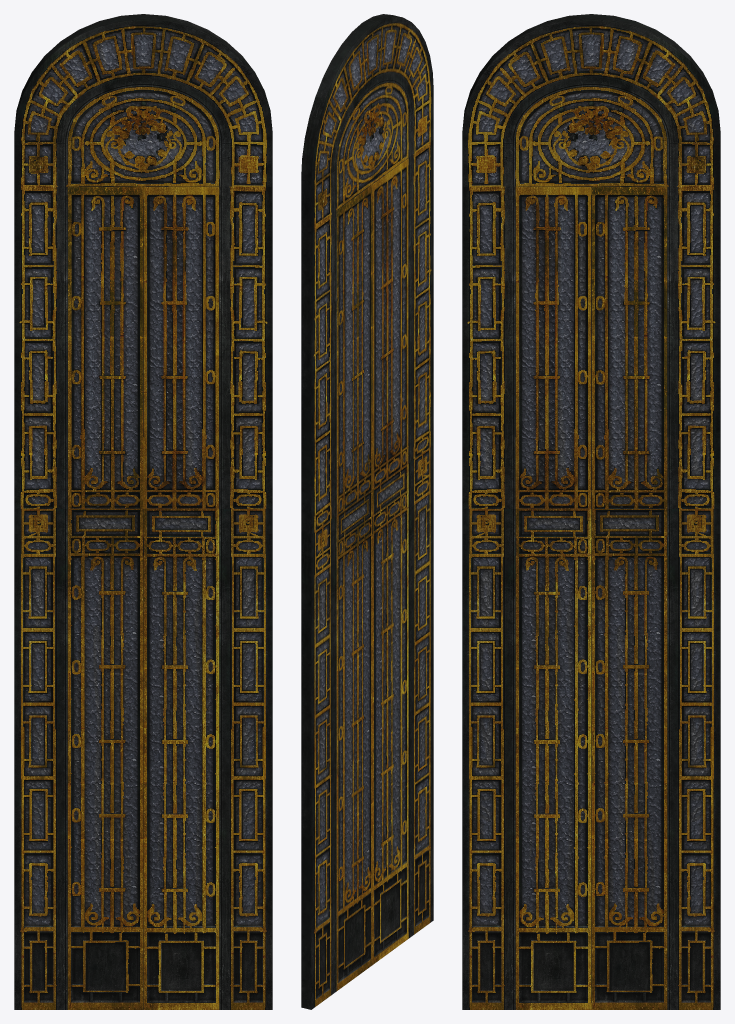
File: KnightCastle_DockRoom_Door.FBX
The picture shows the model from 3 angles, left to right: view 1: azimuth 90°, elevation 25°; view 2: azimuth 150°, elevation 25°; view 3: azimuth 270°, elevation 25°; orthographic projection. The views are drawn at different scales.
Parts seen in each view (by area): view 1: SM_KnightCastle_DockRoom_Door; view 2: SM_KnightCastle_DockRoom_Door; view 3: SM_KnightCastle_DockRoom_Door.
Part boxes in pixels (x1,y1,x2,y2): SM_KnightCastle_DockRoom_Door: [14, 14, 272, 1009]; SM_KnightCastle_DockRoom_Door: [301, 14, 433, 1009]; SM_KnightCastle_DockRoom_Door: [462, 14, 720, 1009].
Size of what is drawn, in the model's own units: 9.41 by 196 by 829.
